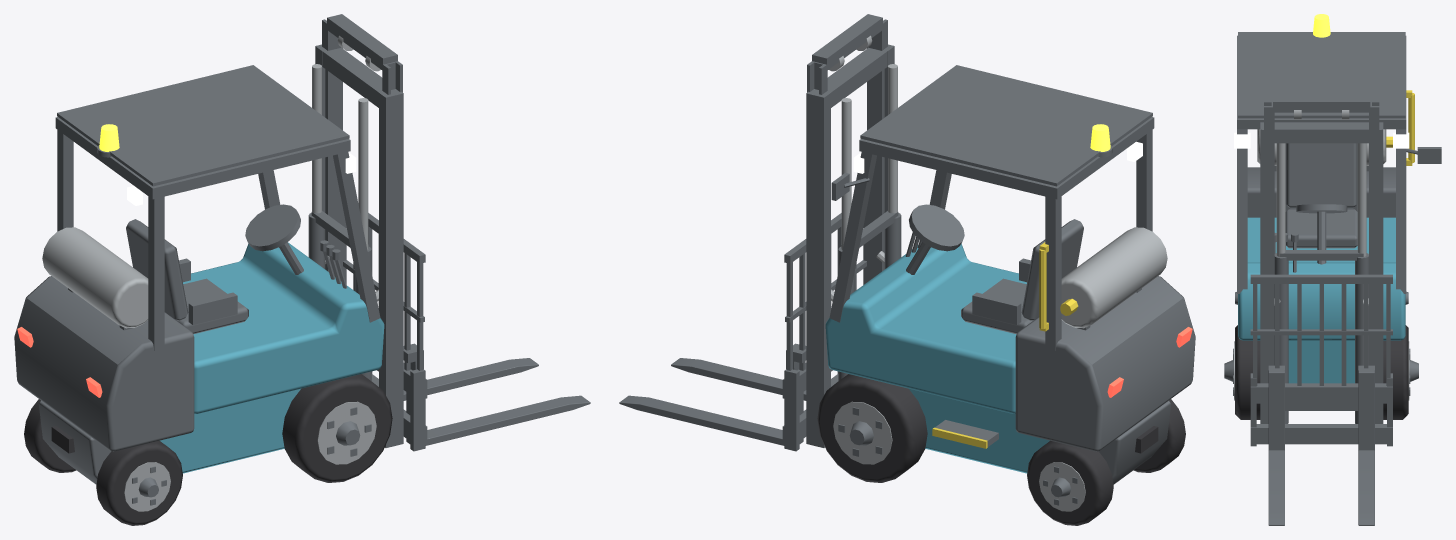
File: forklift.glb
3 views of the same model, side by side, from view 1: azimuth 30°, elevation 25°; view 2: azimuth 150°, elevation 25°; view 3: azimuth 270°, elevation 25° (orthographic). The views are drawn at different scales.
Visible parts, largest first — view 1: root__livery.001, root__graphite.001, opt_roof__graphite, root__graphite.002, mast_outer__graphite, wheel_f_r__tyre, opt_lpg__steel, root__livery, mast_inner__graphite, carriage__graphite.001, carriage__graphite, wheel_b_r__tyre (+7 smaller); view 2: root__livery.001, root__graphite.001, opt_roof__graphite, root__graphite.002, mast_outer__graphite, wheel_f_l__tyre, opt_lpg__steel, root__livery, mast_inner__graphite, carriage__graphite.001, carriage__graphite, wheel_b_l__tyre (+8 smaller); view 3: opt_roof__graphite, carriage__graphite, mast_outer__graphite, root__livery.001, mast_inner__graphite, root__graphite.003, root__graphite.002, carriage__graphite.001, root__livery, mast_outer__steel, root__graphite.001, wheel_f_l__tyre (+5 smaller).
Boxes of the visible parts, x1,y1,x2,y2 form: root__livery.001: [183, 242, 384, 413]; root__graphite.001: [14, 276, 194, 451]; opt_roof__graphite: [57, 65, 349, 186]; root__graphite.002: [55, 117, 380, 350]; mast_outer__graphite: [308, 44, 403, 447]; wheel_f_r__tyre: [282, 374, 392, 482]; opt_lpg__steel: [42, 227, 148, 328]; root__livery: [160, 388, 300, 473]; mast_inner__graphite: [322, 14, 402, 280]; carriage__graphite.001: [371, 343, 590, 445]; carriage__graphite: [343, 209, 427, 451]; wheel_b_r__tyre: [96, 440, 182, 525]; root__livery.001: [825, 243, 1026, 413]; root__graphite.001: [1015, 276, 1195, 451]; opt_roof__graphite: [860, 65, 1152, 186]; root__graphite.002: [829, 117, 1154, 446]; mast_outer__graphite: [806, 44, 901, 447]; wheel_f_l__tyre: [817, 374, 927, 482]; opt_lpg__steel: [1061, 227, 1167, 328]; root__livery: [909, 388, 1049, 473]; mast_inner__graphite: [807, 14, 887, 282]; carriage__graphite.001: [619, 343, 838, 445]; carriage__graphite: [782, 209, 866, 451]; wheel_b_l__tyre: [1027, 440, 1113, 525]; opt_roof__graphite: [1238, 32, 1405, 118]; carriage__graphite: [1250, 274, 1392, 446]; mast_outer__graphite: [1260, 122, 1383, 423]; root__livery.001: [1238, 217, 1405, 340]; mast_inner__graphite: [1264, 95, 1379, 423]; root__graphite.003: [1285, 143, 1357, 248]; root__graphite.002: [1237, 35, 1441, 293]; carriage__graphite.001: [1268, 369, 1374, 525]; root__livery: [1288, 340, 1354, 383]; mast_outer__steel: [1276, 143, 1366, 256]; root__graphite.001: [1247, 167, 1395, 217]; wheel_f_l__tyre: [1383, 325, 1408, 419].
Bounding box in the file's own units: 3.38 × 2.54 × 1.45.
